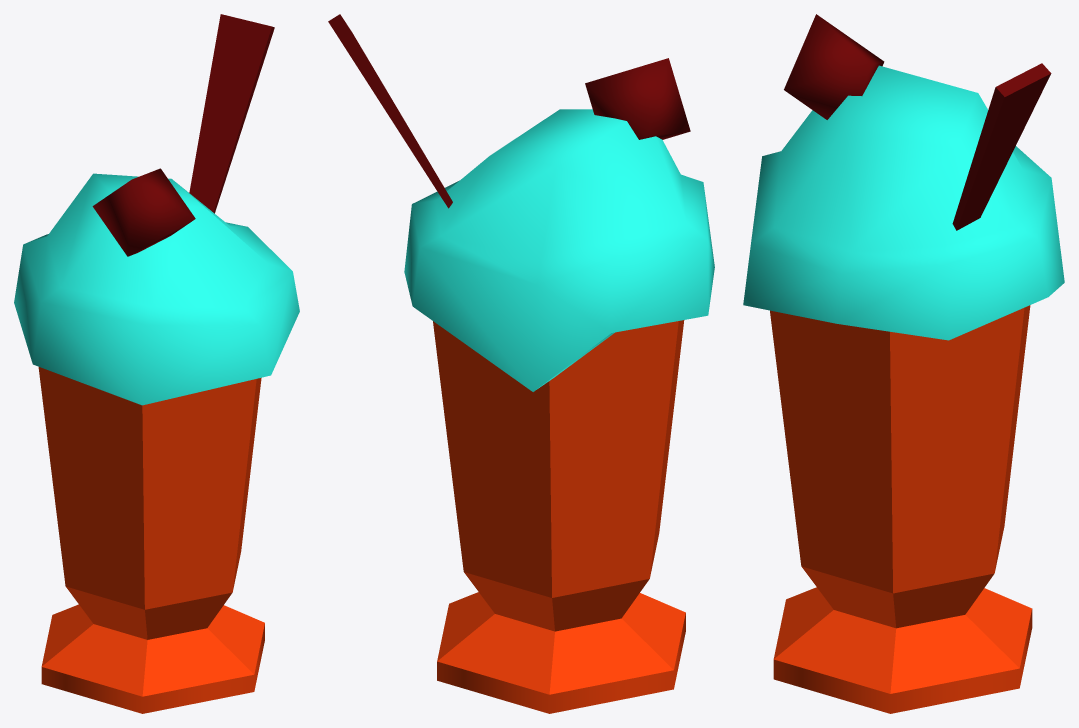
Rendered from Icecup_Orange.FBX.
3 renders of one model, left to right at view 1: azimuth 30°, elevation 25°; view 2: azimuth 150°, elevation 25°; view 3: azimuth 270°, elevation 25°, orthographic. The views are drawn at different scales.
Visible parts, largest first — view 1: Icecup_Orange; view 2: Icecup_Orange; view 3: Icecup_Orange.
Boxes of the visible parts, box(x1,y1,x2,y2) form: Icecup_Orange: box(14, 14, 299, 713); Icecup_Orange: box(328, 14, 714, 713); Icecup_Orange: box(743, 14, 1064, 713).
Size of the model in its own units: 100 by 188 by 82.75.
